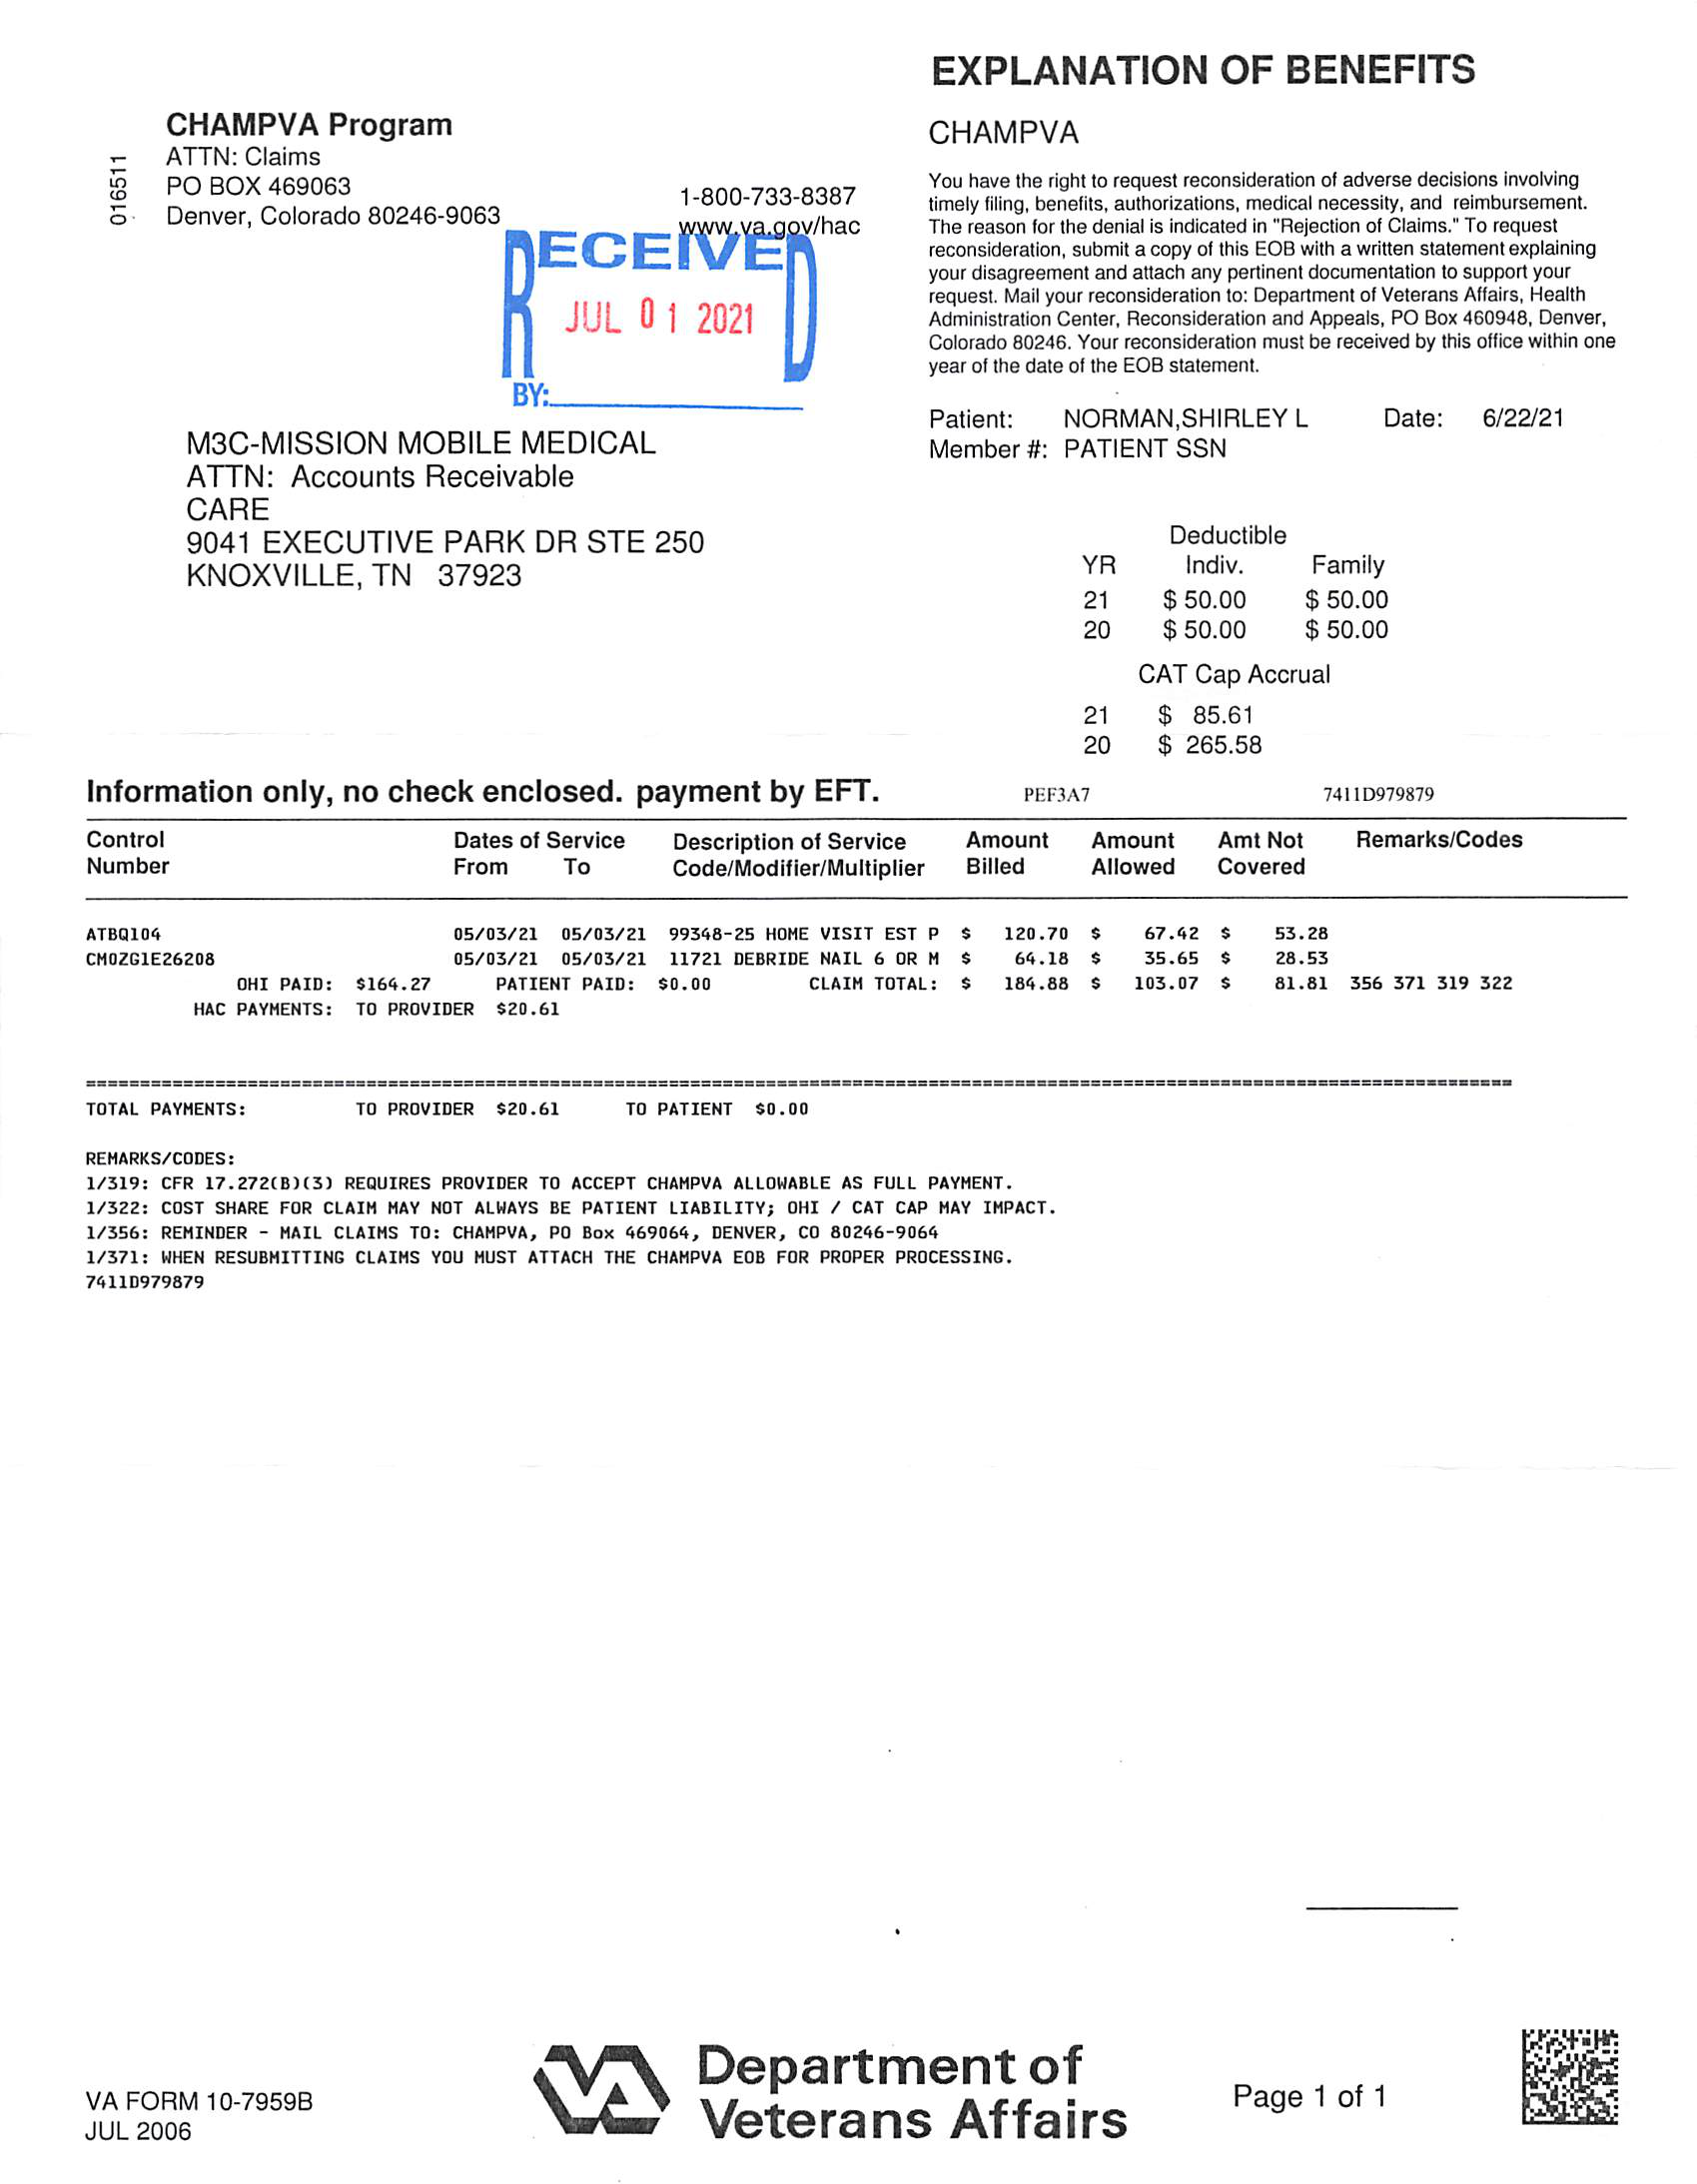data: (919, 397, 1326, 489)
table: (71, 810, 1646, 1041)
